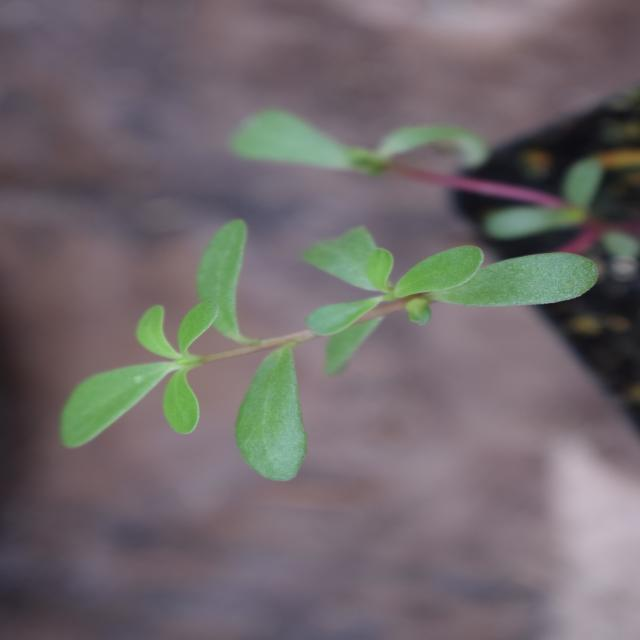purslane: (165, 45, 445, 576)
